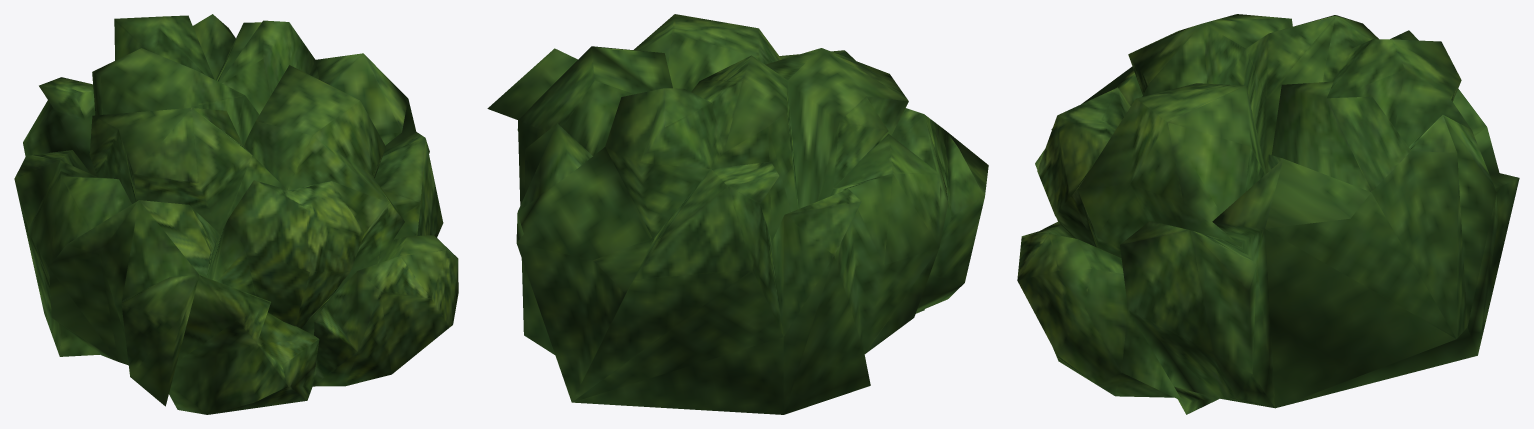
Rendered from bush-01.glb.
3 renders of one model, left to right at view 1: azimuth 30°, elevation 25°; view 2: azimuth 150°, elevation 25°; view 3: azimuth 270°, elevation 25°, orthographic. The views are drawn at different scales.
Size of the model in its own units: 0.9058 by 0.6118 by 0.9517.
Materials: 1 (1 with a texture image).
